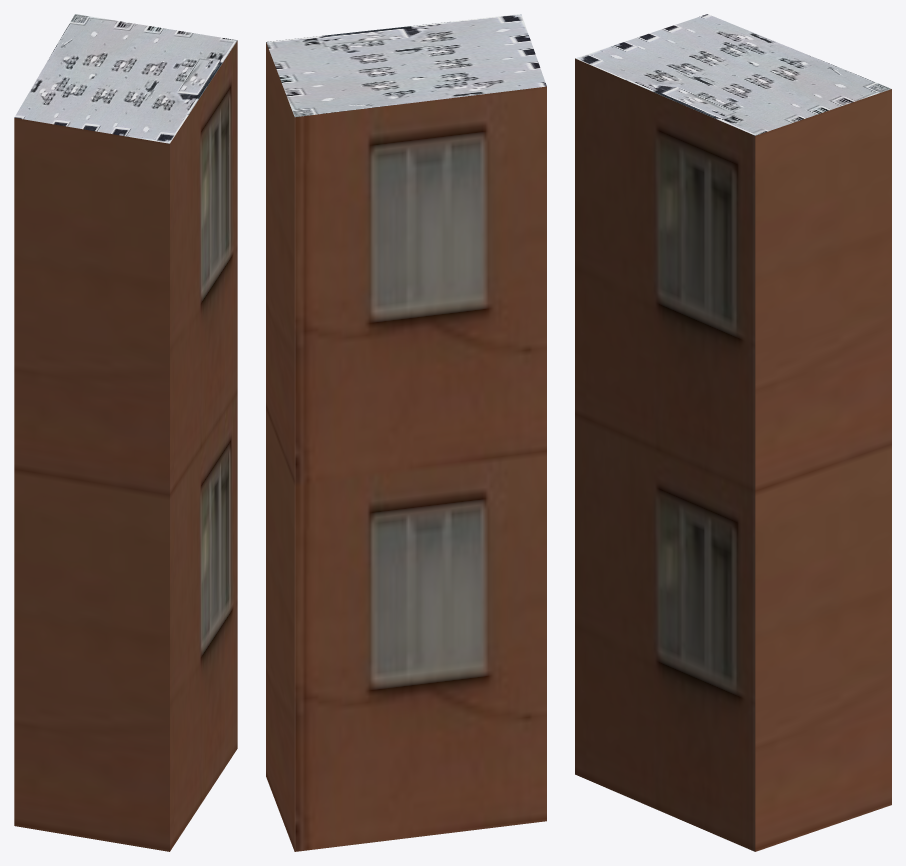
File: ResTex__1277.fbx
3 renders of one model, left to right at view 1: azimuth 30°, elevation 25°; view 2: azimuth 150°, elevation 25°; view 3: azimuth 270°, elevation 25°, orthographic. The views are drawn at different scales.
Visible parts, largest first — view 1: CityEngineMaterial_20_m, CityEngineMaterial_m; view 2: CityEngineMaterial_20_m, CityEngineMaterial_m; view 3: CityEngineMaterial_20_m, CityEngineMaterial_m.
Boxes of the visible parts, <box> form: CityEngineMaterial_20_m: <box>14,41,237,851</box>; CityEngineMaterial_m: <box>14,14,237,143</box>; CityEngineMaterial_20_m: <box>266,42,546,851</box>; CityEngineMaterial_m: <box>266,14,546,117</box>; CityEngineMaterial_20_m: <box>575,58,891,851</box>; CityEngineMaterial_m: <box>575,14,890,135</box>.
Bounding box in the file's own units: 2.19 × 6 × 2.41.
2 materials, 2 textured.
